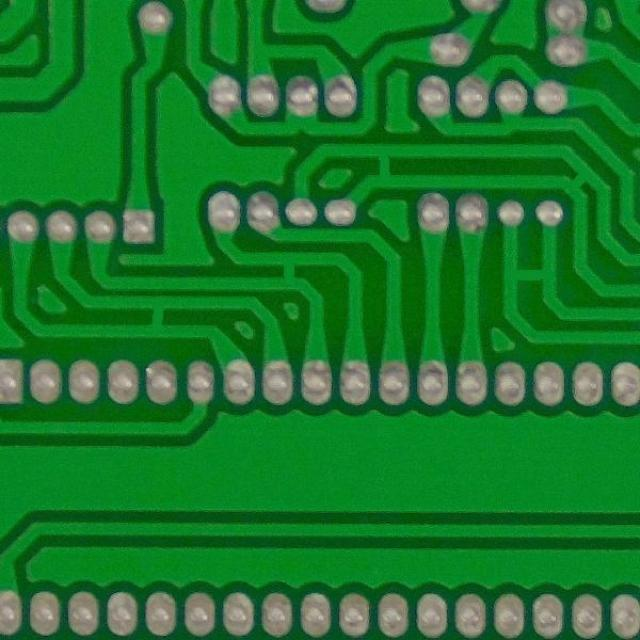Short_Circuit: (494, 254, 566, 294), (134, 290, 182, 346), (363, 138, 406, 196), (556, 157, 602, 200), (270, 246, 308, 296)
